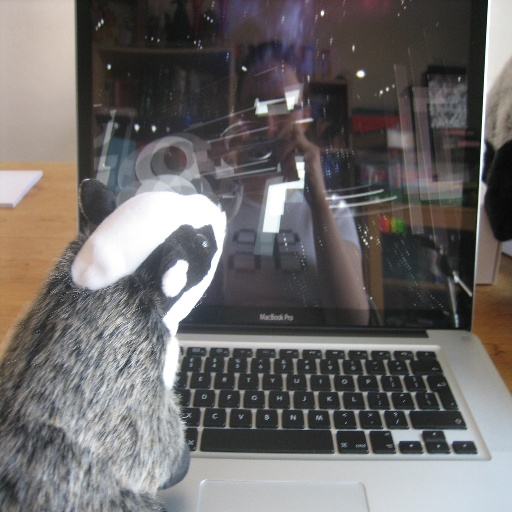hand: (277, 126, 329, 203)
